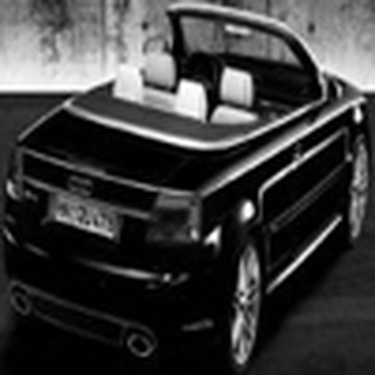car: (1, 6, 372, 373)
